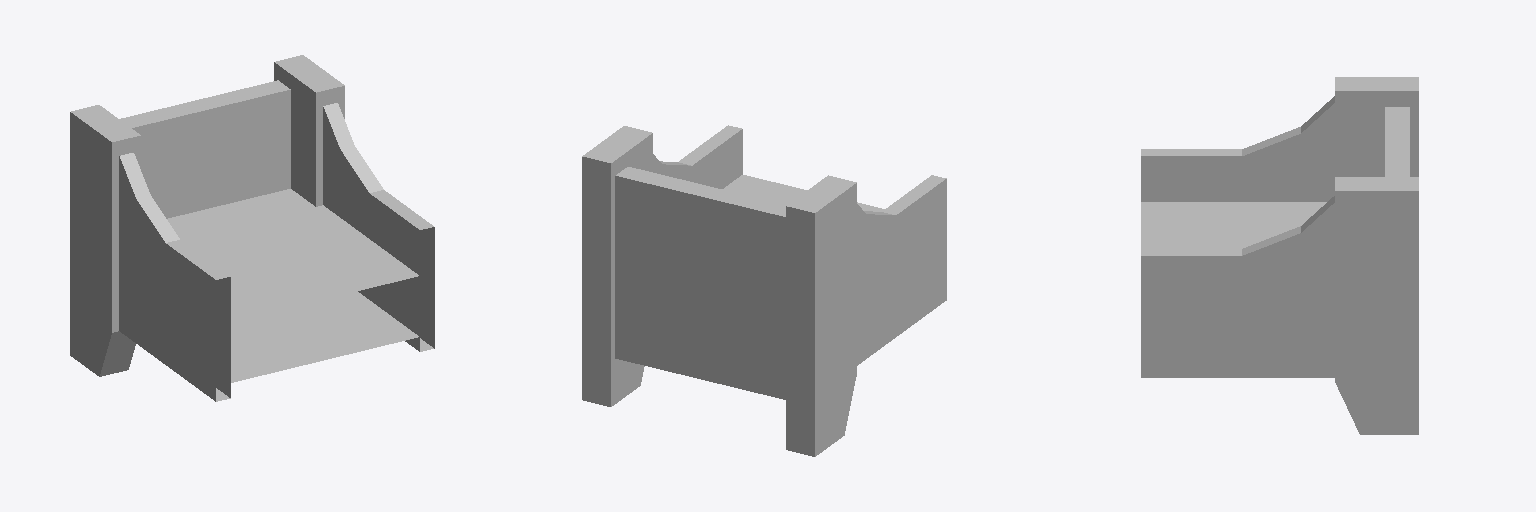
Rendered from fancy_nordic_bed_foot.obj.
3 views of the same model, side by side, from view 1: azimuth 30°, elevation 25°; view 2: azimuth 150°, elevation 25°; view 3: azimuth 270°, elevation 25° (orthographic).
Parts seen in each view (by area): view 1: bed_foot, foot_side_left, foot_board, foot_leg_right, foot_side_right, foot_leg_left; view 2: foot_board, foot_leg_right, foot_side_left, foot_leg_left, foot_side_right, bed_foot; view 3: foot_side_right, foot_leg_left, foot_side_left, bed_foot, foot_leg_right, foot_board.
Part boxes in pixels (x1,y1,x2,y2): bed_foot: (167,189,418,382); foot_side_left: (119,153,230,401); foot_board: (120,80,290,218); foot_leg_right: (70,105,140,376); foot_side_right: (323,103,434,351); foot_leg_left: (274,55,344,206); foot_board: (615,167,786,399); foot_leg_right: (786,175,856,456); foot_side_left: (857,175,946,365); foot_leg_left: (582,126,652,406); foot_side_right: (653,125,742,188); bed_foot: (723,175,884,211); foot_side_right: (1141,196,1334,377); foot_leg_left: (1335,177,1418,434); foot_side_left: (1141,96,1334,201); bed_foot: (1141,202,1326,248); foot_leg_right: (1335,77,1418,176); foot_board: (1385,107,1409,176).
Bounding box in the file's own units: 1 × 1 × 1.03.